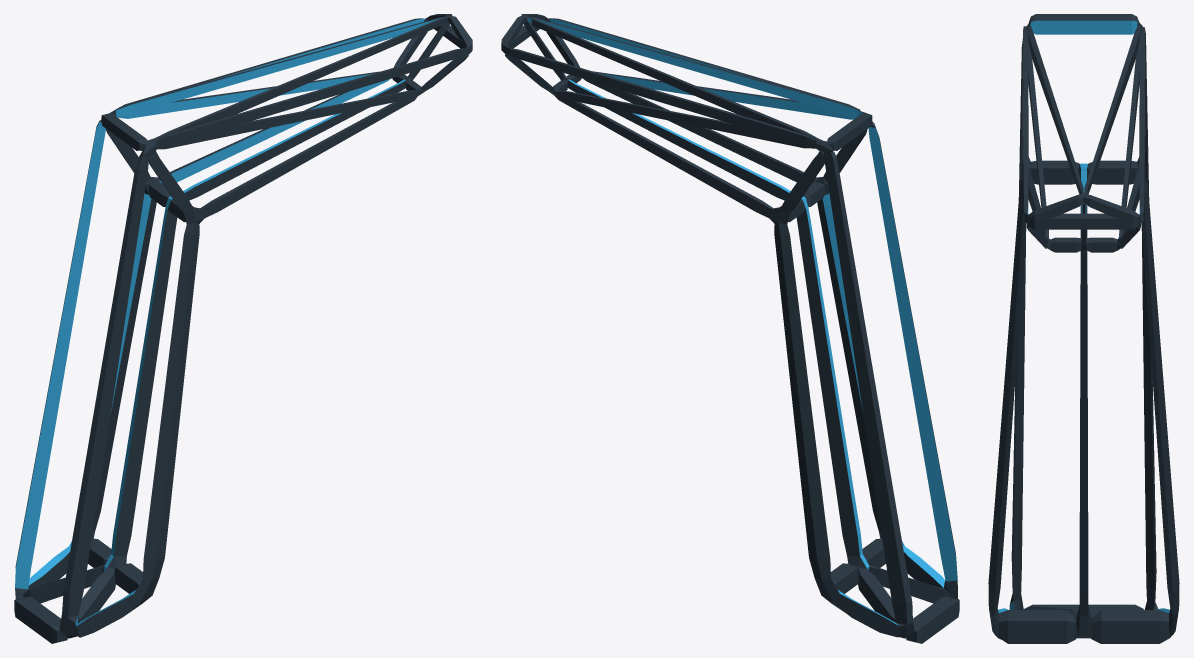
File: GrabClaw.fbx
The picture shows the model from 3 angles, left to right: view 1: azimuth 30°, elevation 25°; view 2: azimuth 150°, elevation 25°; view 3: azimuth 270°, elevation 25°; orthographic projection. The views are drawn at different scales.
Parts seen in each view (by area): view 1: Cube.001; view 2: Cube.001; view 3: Cube.001.
Boxes of the visible parts, bbox=[...] form: Cube.001: bbox=[14, 14, 472, 643]; Cube.001: bbox=[501, 14, 959, 643]; Cube.001: bbox=[988, 14, 1179, 643].
Size of the model in its own units: 79.49 by 92.46 by 22.36.
